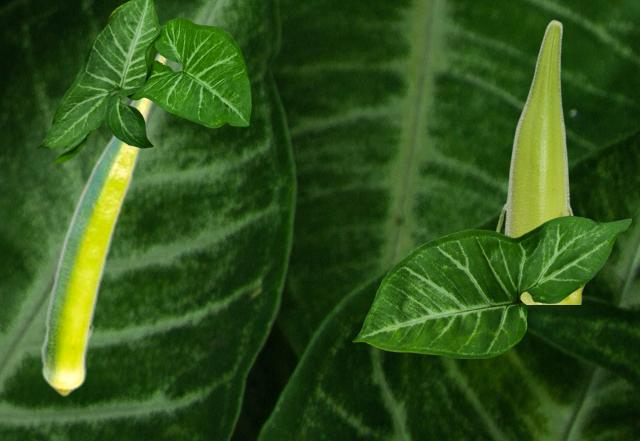okra: (41, 53, 167, 396), (495, 19, 584, 303)
